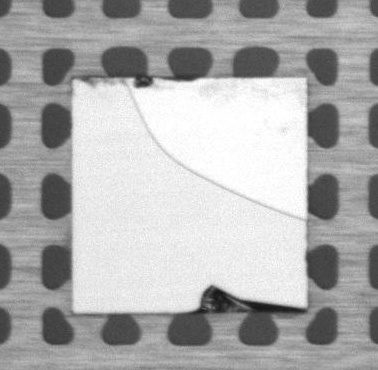DIE_CRACK: (130, 93, 303, 219)
